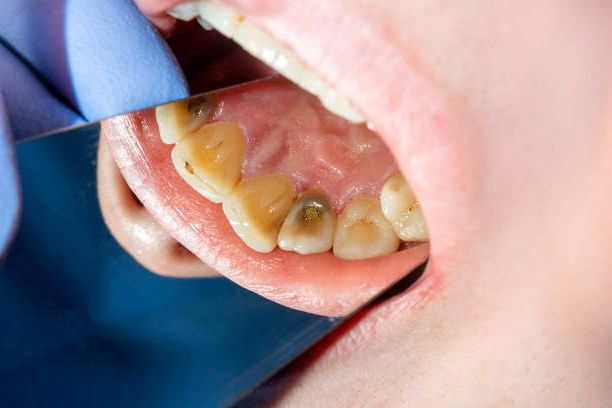Tooth Discoloration: (170, 89, 384, 252)
